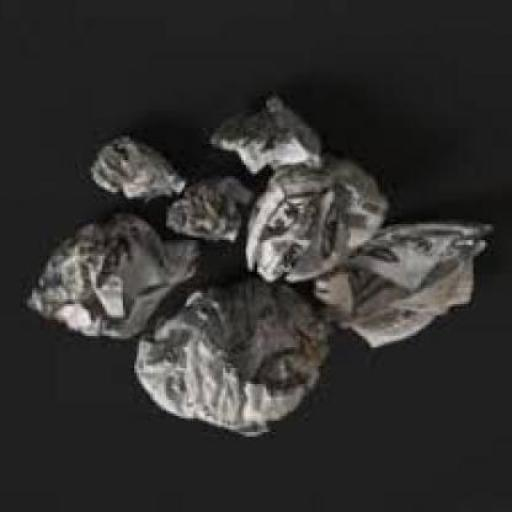paper: (134, 286, 332, 441), (314, 219, 493, 350), (28, 212, 202, 343), (248, 153, 392, 288), (212, 98, 325, 178), (166, 176, 255, 250), (91, 139, 187, 206)
